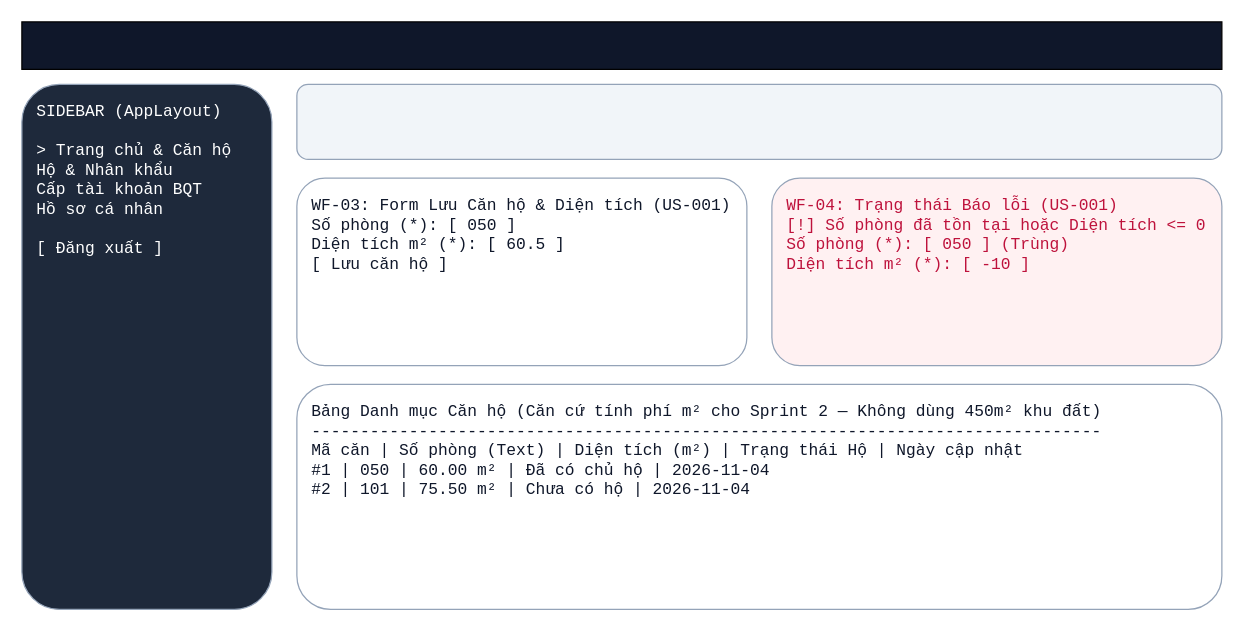
This 1244x631 diagram has some shape labels left out. Each missing label, with the centre of its shape:
"TOPBAR: Hệ thống Quản lý Chung cư BlueMoon SE09 | User: ADMIN" belongs at point (759, 121).
"WF-03 & WF-04: Trang chủ & Quản lý Căn hộ (US-001)" belongs at point (621, 45).
